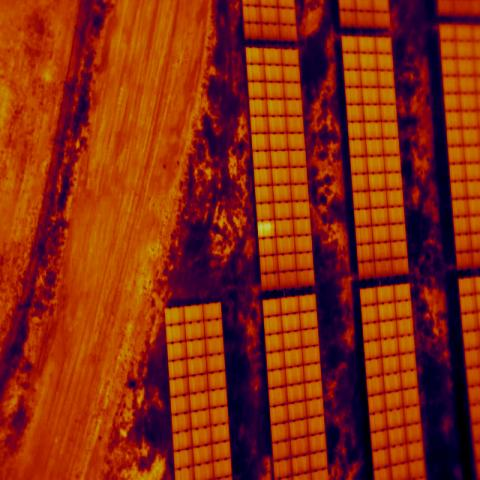fault: (258, 220, 274, 236)
